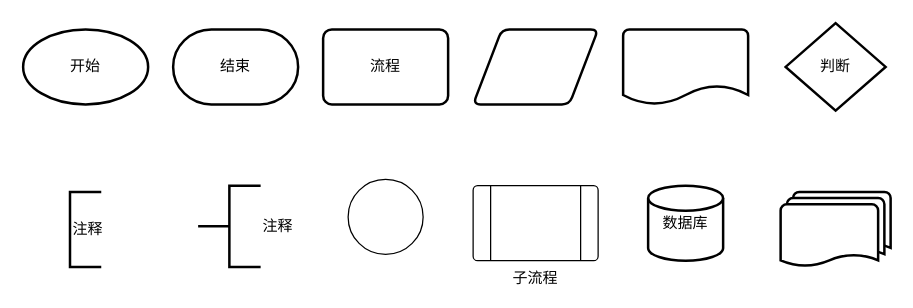
Some shapes in this 913 by 308 pixel diagram are drawn without their labels. Here are the shapes that lost their labels. From the top down, the box of each, then its label:
(471, 28, 599, 105): 数据
(621, 28, 749, 105): 文档
(347, 178, 423, 254): 页面内引用
(779, 190, 891, 268): 多文档
